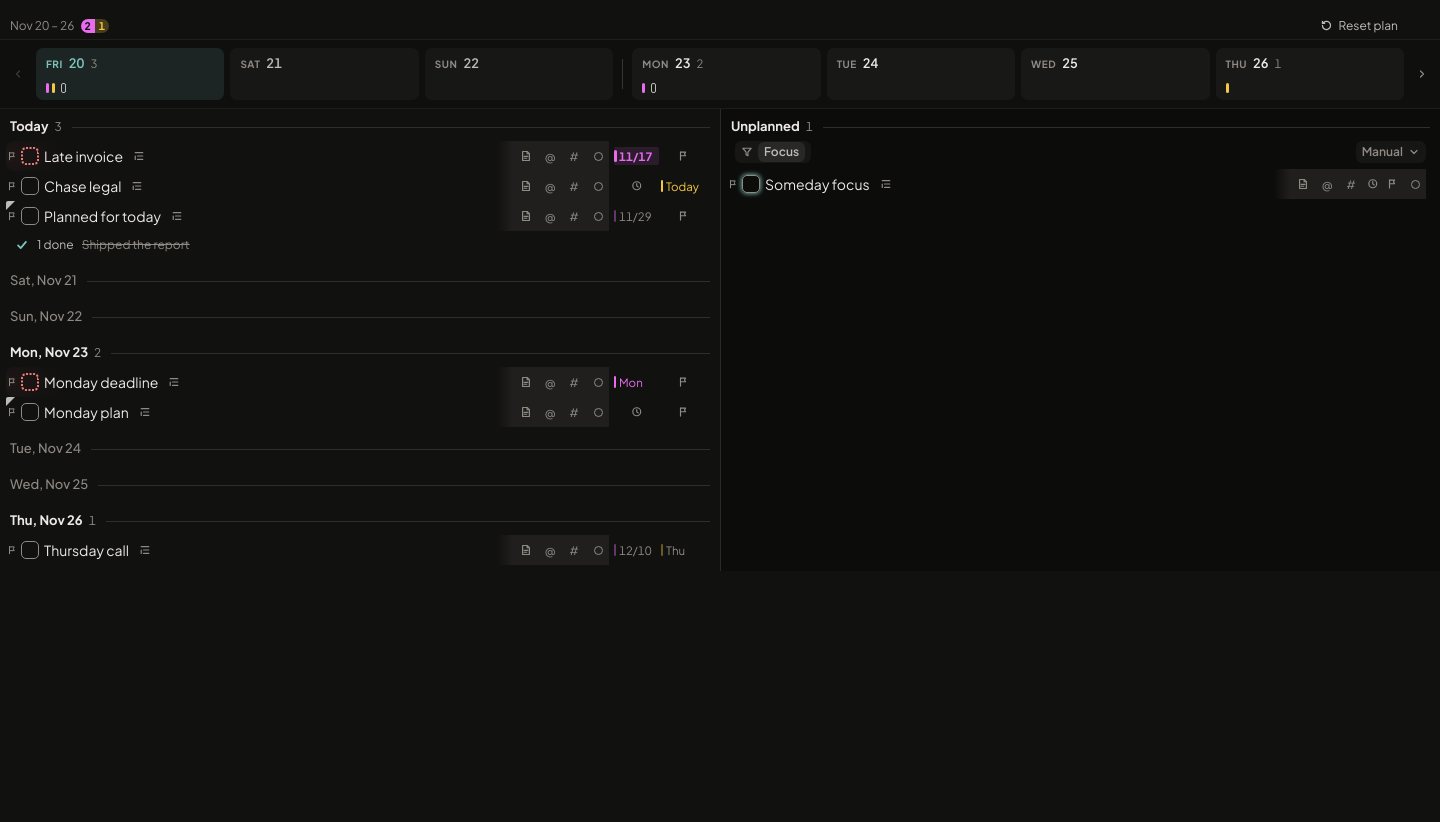
it: the Planner — its top line, alone in its cell › shifted, the range is the way back to this week
The width and height of the screenshot is (1440, 822).
Click the button named "Next week". click: (1422, 74)
box: [1410,48,1434,100]
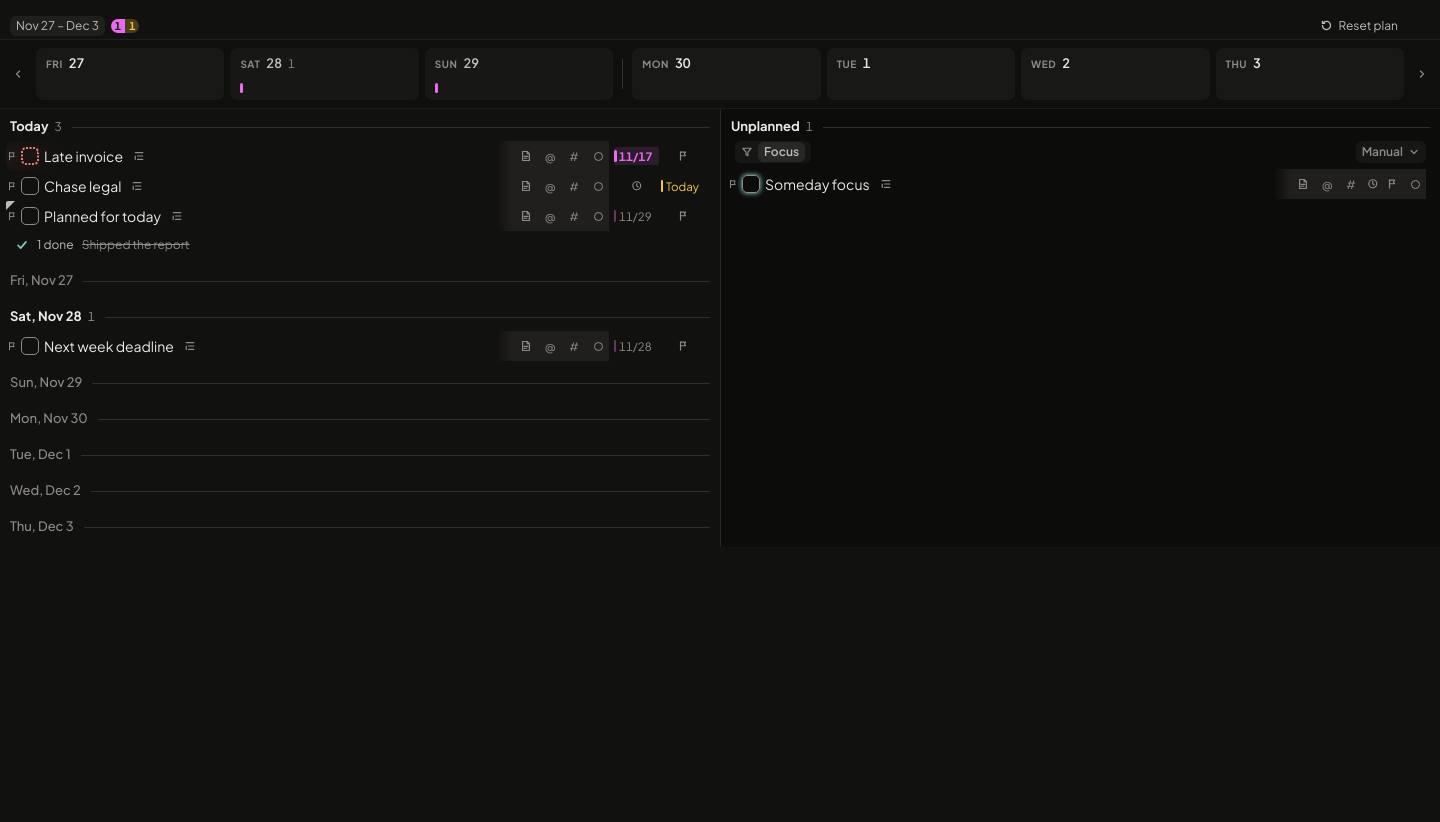
Expected: the text with test id "planner-range" is gone
Click the button with aria-label "Nov 27 – Dec 3. Back to this week". click: (57, 26)
box: [10,16,105,36]
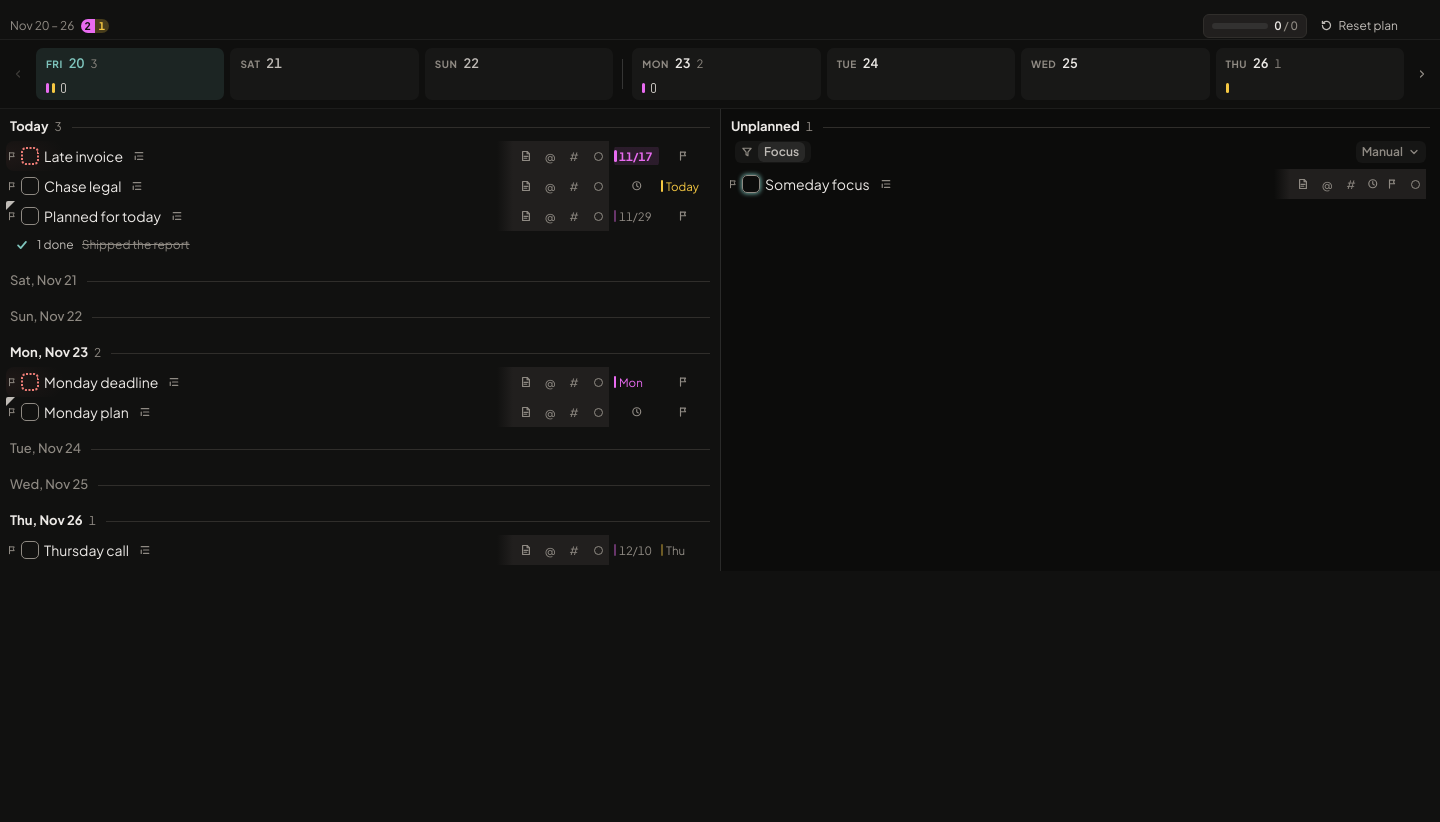
Expected: the text with test id "planner-range" reads "Nov 20 – 26", [10,18,74,32]
